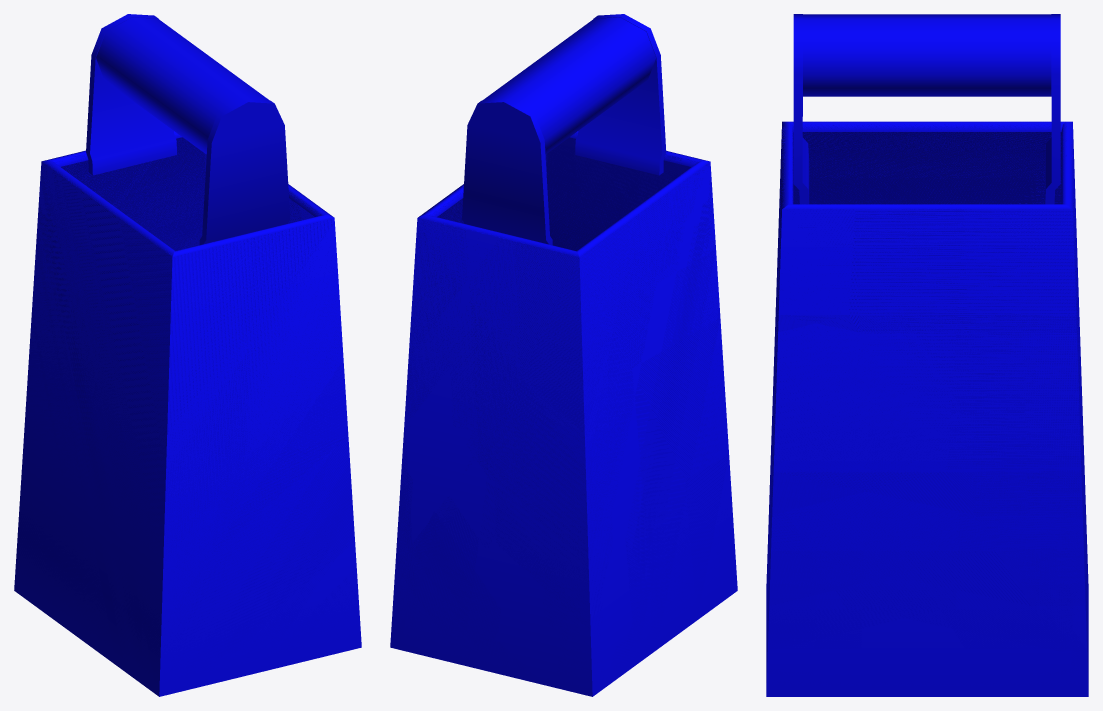
Rendered from terka.FBX.
3 views of the same model, side by side, from view 1: azimuth 30°, elevation 25°; view 2: azimuth 150°, elevation 25°; view 3: azimuth 270°, elevation 25° (orthographic). The views are drawn at different scales.
Visible parts, largest first — view 1: terka; view 2: terka; view 3: terka.
Boxes of the visible parts, x1=… form: terka: x1=14, y1=14, x2=361, y2=696; terka: x1=390, y1=14, x2=737, y2=696; terka: x1=766, y1=14, x2=1088, y2=696.
Size of the model in its own units: 0.0837 by 0.2217 by 0.104.
